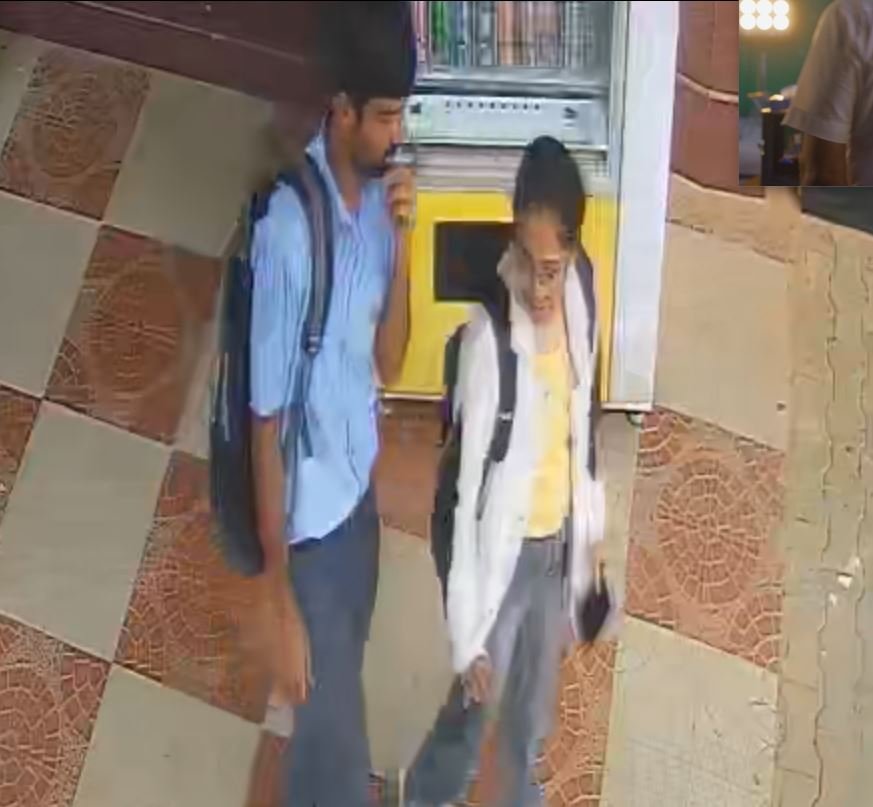intruder: (209, 9, 422, 807), (445, 114, 610, 807)
